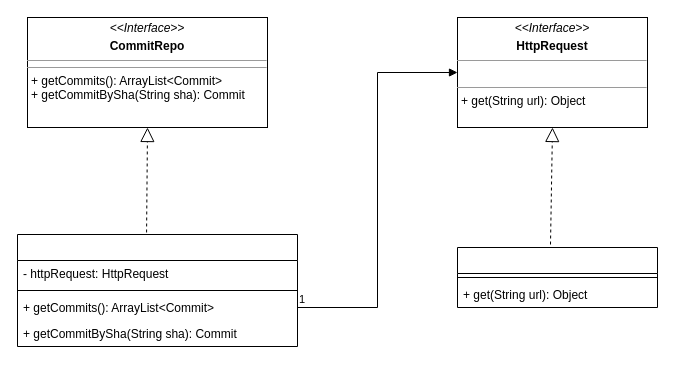
This 675x367 diagram has some shape labels left out. Here are the shapes that lost their labels. From the top down, the box of each, then its label:
(16, 234, 298, 346): HttpCommitRepo
(456, 246, 658, 308): OkHttp3Request
